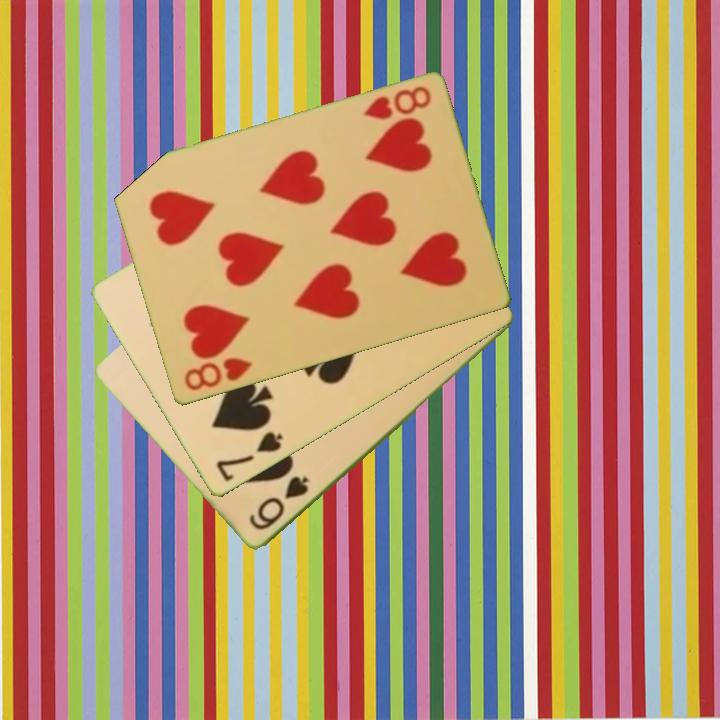6s: (245, 472, 312, 534)
7s: (212, 428, 286, 485)
8h: (359, 83, 434, 124), (180, 354, 255, 394)
